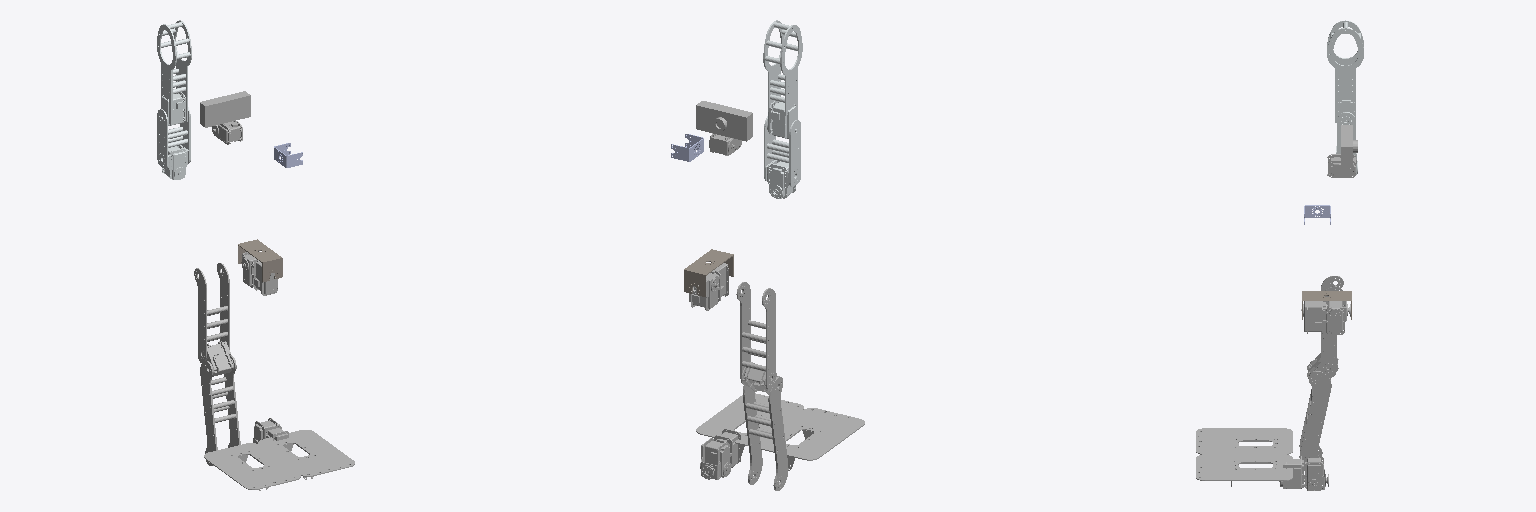
--- Facts derived from the render (not from the file) ---
Views: 3 orthographic renders of the robot side by side, from view 1: azimuth 30°, elevation 25°; view 2: azimuth 150°, elevation 25°; view 3: azimuth 270°, elevation 25°.
Model SAKURA with 21 links and 20 joints (19 continuous, 1 fixed), rooted at base_link, posed all joints at 0.
Links seen in each view (by area): view 1: LFOOT, LLEG2, RFOOT, LARM2, LLEG3, HEAD, LARM1, RLEG0, RLEG1, RLEG4; view 2: LARM2, LLEG2, LFOOT, LLEG3, LARM1, HEAD, RFOOT, RLEG4, RLEG0, RLEG1, RARM0; view 3: RFOOT, LFOOT, LARM2, LLEG3, RLEG1, RLEG4, LLEG2, HEAD, RLEG0.
Boxes of the visible links, x1=… form: LFOOT: x1=204, y1=443, x2=300, y2=490; LLEG2: x1=194, y1=263, x2=233, y2=376; RFOOT: x1=258, y1=430, x2=354, y2=479; LARM2: x1=157, y1=20, x2=191, y2=125; LLEG3: x1=200, y1=355, x2=240, y2=465; HEAD: x1=200, y1=91, x2=250, y2=144; LARM1: x1=157, y1=107, x2=190, y2=179; RLEG0: x1=238, y1=239, x2=282, y2=281; RLEG1: x1=241, y1=251, x2=277, y2=295; RLEG4: x1=253, y1=418, x2=288, y2=443; LARM2: x1=763, y1=20, x2=802, y2=138; LLEG2: x1=736, y1=282, x2=777, y2=394; LFOOT: x1=761, y1=408, x2=864, y2=470; LLEG3: x1=743, y1=376, x2=788, y2=490; LARM1: x1=764, y1=116, x2=800, y2=198; HEAD: x1=696, y1=101, x2=752, y2=155; RFOOT: x1=696, y1=393, x2=803, y2=455; RLEG4: x1=700, y1=429, x2=740, y2=479; RLEG0: x1=684, y1=249, x2=733, y2=296; RLEG1: x1=689, y1=263, x2=728, y2=310; RARM0: x1=671, y1=134, x2=703, y2=161; RFOOT: x1=1196, y1=454, x2=1292, y2=486; LFOOT: x1=1196, y1=428, x2=1292, y2=454; LARM2: x1=1327, y1=20, x2=1363, y2=122; LLEG3: x1=1299, y1=360, x2=1331, y2=467; RLEG1: x1=1301, y1=301, x2=1350, y2=334; RLEG4: x1=1279, y1=456, x2=1328, y2=490; LLEG2: x1=1307, y1=276, x2=1343, y2=382; HEAD: x1=1327, y1=125, x2=1357, y2=177; RLEG0: x1=1302, y1=291, x2=1351, y2=319.
Bounding box of the posed robot: 0.2928 × 0.3597 × 1.01 m (x, y, z).
11 mesh visuals loaded from 20 distinct referenced files (11 binary STL); not drawn: 9 (reference not matched to a file when rendering).

URDF robot description (SAKURA):
<?xml version="1.0"?>
<robot
  name="SAKURA">
  <link name="base_link">
      <origin
        xyz="0 0 0"
        rpy="0 0 0" />
  </link>
  <link
    name="TRUNK">
    <inertial>
      <origin
        xyz="-0.00014294 -0.015994 0.11925"
        rpy="0 0 0" />
      <mass
        value="1.4778" />
      <inertia
        ixx="0.01254"
        ixy="-2.6848E-06"
        ixz="-7.1735E-06"
        iyy="0.016696"
        iyz="0.00077618"
        izz="0.0056788" />
    </inertial>
    <visual>
      <origin
        xyz="0 0 0"
        rpy="0 0 0" />
      <geometry>
        <mesh
          filename="package://sakura_pkg/meshes/TRUNK.STL" />
      </geometry>
      <material
        name="">
        <color
          rgba="0.75294 0.75294 0.75294 1" />
      </material>
    </visual>
    <collision>
      <origin
        xyz="0 0 0"
        rpy="0 0 0" />
      <geometry>
      <mesh
          filename="package://sakura_pkg/meshes/TRUNK.STL" />
      </geometry>
    </collision>
  </link>
  <joint name="GLOBAL" type="fixed">
    <parent link="base_link"/>
    <child link="TRUNK"/>
    <origin xyz="0 0 0" rpy="0 0 0"/>
  </joint>
  <link
    name="HEAD">
    <inertial>
      <origin
        xyz="-0.0022811 0.012999 0.044365"
        rpy="0 0 0" />
      <mass
        value="0.21462" />
      <inertia
        ixx="0.00010122"
        ixy="8.917E-07"
        ixz="4.6738E-06"
        iyy="9.789E-05"
        iyz="-1.8633E-05"
        izz="3.7787E-06" />
    </inertial>
    <visual>
      <origin
        xyz="0 0 0"
        rpy="0 0 0" />
      <geometry>
        <mesh
          filename="package://sakura_pkg/meshes/HEAD.STL" />
      </geometry>
      <material
        name="">
        <color
          rgba="0.75294 0.75294 0.75294 1" />
      </material>
    </visual>
    <collision>
      <origin
        xyz="0 0 0"
        rpy="0 0 0" />
      <geometry>
        <mesh
          filename="package://sakura_pkg/meshes/HEAD.STL" />
      </geometry>
    </collision>
  </link>
  <joint
    name="J_HEAD"
    type="continuous">
    <origin
      xyz="0 0.0105 0.253"
      rpy="0 0 0" />
    <parent
      link="TRUNK" />
    <child
      link="HEAD" />
      <limit effort="30" lower="0" upper="0" velocity="0" />
    <axis
      xyz="0 0 1" />
  </joint>
  <link
    name="LARM0">
    <inertial>
      <origin
        xyz="4.16333634234434E-17 2.77555756156289E-17 0.0103025666414173"
        rpy="0 0 0" />
      <mass
        value="0.00661752260971811" />
      <inertia
        ixx="0"
        ixy="0"
        ixz="0"
        iyy="0"
        iyz="0"
        izz="0" />
    </inertial>
    <visual>
      <origin
        xyz="0 0 0"
        rpy="0 0 0" />
      <geometry>
        <mesh
          filename="package://sakura_pkg/meshes/LARM0.STL" />
      </geometry>
      <material
        name="">
        <color
          rgba="0.792156862745098 0.819607843137255 0.933333333333333 1" />
      </material>
    </visual>
    <collision>
      <origin
        xyz="0 0 0"
        rpy="0 0 0" />
      <geometry>
        <mesh
          filename="package://sakura_pkg/meshes/LARM0.STL" />
      </geometry>
    </collision>
  </link>
  <joint
    name="J_LARM0"
    type="continuous">
    <origin
      xyz="-0.0935 -0.0379999999999999 0.209"
      rpy="1.5707963267949 -5.68512494817791E-16 -1.5707963267949" />
    <parent
      link="TRUNK" />
    <child
      link="LARM0" />
      <limit effort="30" lower="0" upper="0" velocity="0" />
    <axis
      xyz="0 0 1" />
  </joint>
  <link
    name="LARM1">
    <inertial>
      <origin
        xyz="-0.00020391 -0.035817 -0.030725"
        rpy="0 0 0" />
      <mass
        value="0.38689" />
      <inertia
        ixx="0.00031946"
        ixy="-7.0086E-06"
        ixz="-6.3392E-09"
        iyy="8.0452E-05"
        iyz="6.4697E-07"
        izz="0.00038642" />
    </inertial>
    <visual>
      <origin
        xyz="0 0 0"
        rpy="0 0 0" />
      <geometry>
        <mesh
          filename="package://sakura_pkg/meshes/LARM1.STL" />
      </geometry>
      <material
        name="">
        <color
          rgba="0.89804 0.92157 0.92941 1" />
      </material>
    </visual>
    <collision>
      <origin
        xyz="0 0 0"
        rpy="0 0 0" />
      <geometry>
        <mesh
          filename="package://sakura_pkg/meshes/LARM1.STL" />
      </geometry>
    </collision>
  </link>
  <joint
    name="J_LARM1"
    type="continuous">
    <origin
      xyz="-0.0308 0 0.036"
      rpy="3.1416 -1.5708 0" />
    <parent
      link="LARM0" />
    <child
      link="LARM1" />
      <limit effort="30" lower="0" upper="0" velocity="0" />
    <axis
      xyz="0 0 1" />
  </joint>
  <link
    name="LARM2">
    <inertial>
      <origin
        xyz="-0.000946892853796719 -0.0604743903550126 -0.0305493053823289"
        rpy="0 0 0" />
      <mass
        value="0.417770884687889" />
      <inertia
        ixx="0.00130365609096481"
        ixy="-2.20058971275386E-05"
        ixz="-1.13235654810545E-07"
        iyy="7.40162277479168E-05"
        iyz="-4.76741794550913E-06"
        izz="0.00130522583526536" />
    </inertial>
    <visual>
      <origin
        xyz="0 0 0"
        rpy="0 0 0" />
      <geometry>
        <mesh
          filename="package://sakura_pkg/meshes/LARM2.STL" />
      </geometry>
      <material
        name="">
        <color
          rgba="0.898039215686275 0.92156862745098 0.929411764705882 1" />
      </material>
    </visual>
    <collision>
      <origin
        xyz="0 0 0"
        rpy="0 0 0" />
      <geometry>
        <mesh
          filename="package://sakura_pkg/meshes/LARM2.STL" />
      </geometry>
    </collision>
  </link>
  <joint
    name="J_LARM2"
    type="continuous">
    <origin
      xyz="0.0307 -0.1235 -0.0308"
      rpy="0 1.5708 0" />
    <parent
      link="LARM1" />
    <child
      link="LARM2" />
      <limit effort="30" lower="0" upper="0" velocity="0" />
    <axis
      xyz="0 0 -1" />
  </joint>
  <link
    name="RARM0">
    <inertial>
      <origin
        xyz="-4.16333634234434E-17 0 0.0103025666414173"
        rpy="0 0 0" />
      <mass
        value="0.00661752260971814" />
      <inertia
        ixx="0"
        ixy="0"
        ixz="0"
        iyy="0"
        iyz="0"
        izz="0" />
    </inertial>
    <visual>
      <origin
        xyz="0 0 0"
        rpy="0 0 0" />
      <geometry>
        <mesh
          filename="package://sakura_pkg/meshes/RARM0.STL" />
      </geometry>
      <material
        name="">
        <color
          rgba="0.792156862745098 0.819607843137255 0.933333333333333 1" />
      </material>
    </visual>
    <collision>
      <origin
        xyz="0 0 0"
        rpy="0 0 0" />
      <geometry>
        <mesh
          filename="package://sakura_pkg/meshes/RARM0.STL" />
      </geometry>
    </collision>
  </link>
  <joint
    name="J_RARM0"
    type="continuous">
    <origin
      xyz="0.0935 -0.0379999999999998 0.209"
      rpy="-1.5707963267949 -6.11213380380296E-16 -1.5707963267949" />
    <parent
      link="TRUNK" />
    <child
      link="RARM0" />
      <limit effort="30" lower="0" upper="0" velocity="0" />
    <axis
      xyz="0 0 1" />
  </joint>
  <link
    name="RARM1">
    <inertial>
      <origin
        xyz="-0.00020390590904687 -0.0358166170046634 -0.030724518771744"
        rpy="0 0 0" />
      <mass
        value="0.386889741732442" />
      <inertia
        ixx="0.000319462933467777"
        ixy="-7.00859671208941E-06"
        ixz="-6.33921748509193E-09"
        iyy="8.04522623501488E-05"
        iyz="6.46973244600186E-07"
        izz="0.000386423060557298" />
    </inertial>
    <visual>
      <origin
        xyz="0 0 0"
        rpy="0 0 0" />
      <geometry>
        <mesh
          filename="package://sakura_pkg/meshes/RARM1.STL" />
      </geometry>
      <material
        name="">
        <color
          rgba="0.898039215686275 0.92156862745098 0.929411764705882 1" />
      </material>
    </visual>
    <collision>
      <origin
        xyz="0 0 0"
        rpy="0 0 0" />
      <geometry>
        <mesh
          filename="package://sakura_pkg/meshes/RARM1.STL" />
      </geometry>
    </collision>
  </link>
  <joint
    name="J_RARM1"
    type="continuous">
    <origin
      xyz="-0.0308 0 0.036"
      rpy="3.14159265358979 1.5707963267949 0" />
    <parent
      link="RARM0" />
    <child
      link="RARM1" />
      <limit effort="30" lower="0" upper="0" velocity="0" />
    <axis
      xyz="0 0 1" />
  </joint>
  <link
    name="RARM2">
    <inertial>
      <origin
        xyz="-0.000946892853796802 -0.0604743903550127 -0.030549305382329"
        rpy="0 0 0" />
      <mass
        value="0.417770884687889" />
      <inertia
        ixx="0.00130365609096481"
        ixy="-2.20058971275386E-05"
        ixz="-1.13235654810692E-07"
        iyy="7.40162277479168E-05"
        iyz="-4.76741794550967E-06"
        izz="0.00130522583526536" />
    </inertial>
    <visual>
      <origin
        xyz="0 0 0"
        rpy="0 0 0" />
      <geometry>
        <mesh
          filename="package://sakura_pkg/meshes/RARM2.STL" />
      </geometry>
      <material
        name="">
        <color
          rgba="0.898039215686275 0.92156862745098 0.929411764705882 1" />
      </material>
    </visual>
    <collision>
      <origin
        xyz="0 0 0"
        rpy="0 0 0" />
      <geometry>
        <mesh
          filename="package://sakura_pkg/meshes/RARM2.STL" />
      </geometry>
    </collision>
  </link>
  <joint
    name="J_RARM2"
    type="continuous">
    <origin
      xyz="0.0307 -0.1235 -0.0308"
      rpy="0 1.5708 0" />
    <parent
      link="RARM1" />
    <child
      link="RARM2" />
      <limit effort="30" lower="0" upper="0" velocity="0" />
    <axis
      xyz="0 0 -1" />
  </joint>
  <link
    name="LLEG0">
    <inertial>
      <origin
        xyz="1.38777878078145E-17 1.38777878078145E-17 0.012339611662812"
        rpy="0 0 0" />
      <mass
        value="0.137487098095279" />
      <inertia
        ixx="0"
        ixy="0"
        ixz="0"
        iyy="0"
        iyz="0"
        izz="0" />
    </inertial>
    <visual>
      <origin
        xyz="0 0 0"
        rpy="0 0 0" />
      <geometry>
        <mesh
          filename="package://sakura_pkg/meshes/LLEG0.STL" />
      </geometry>
      <material
        name="">
        <color
          rgba="0.650980392156863 0.619607843137255 0.588235294117647 1" />
      </material>
    </visual>
    <collision>
      <origin
        xyz="0 0 0"
        rpy="0 0 0" />
      <geometry>
        <mesh
          filename="package://sakura_pkg/meshes/LLEG0.STL" />
      </geometry>
    </collision>
  </link>
  <joint
    name="J_LLEG0"
    type="continuous">
    <origin
      xyz="-0.055 -0.018 -0.005"
      rpy="-3.14159265358979 1.21430643318376E-16 -1.5707963267949" />
    <parent
      link="TRUNK" />
    <child
      link="LLEG0" />
      <limit effort="30" lower="0" upper="0" velocity="0" />
    <axis
      xyz="0 0 1" />
  </joint>
  <link
    name="LLEG1">
    <inertial>
      <origin
        xyz="-4.90216563097182E-05 -0.014933566350856 -0.0542307430726147"
        rpy="0 0 0" />
      <mass
        value="0.484317524341268" />
      <inertia
        ixx="0.000258532465487085"
        ixy="-1.08430216395218E-08"
        ixz="-4.93107012410794E-07"
        iyy="0.000256538006237082"
        iyz="8.86337248194801E-06"
        izz="4.00980160512074E-06" />
    </inertial>
    <visual>
      <origin
        xyz="0 0 0"
        rpy="0 0 0" />
      <geometry>
        <mesh
          filename="package://sakura_pkg/meshes/LLEG1.STL" />
      </geometry>
      <material
        name="">
        <color
          rgba="0.752941176470588 0.752941176470588 0.752941176470588 1" />
      </material>
    </visual>
    <collision>
      <origin
        xyz="0 0 0"
        rpy="0 0 0" />
      <geometry>
        <mesh
          filename="package://sakura_pkg/meshes/LLEG1.STL" />
      </geometry>
    </collision>
  </link>
  <joint
    name="J_LLEG1"
    type="continuous">
    <origin
      xyz="0.056 0 0.036"
      rpy="-1.5708 -1.2234E-16 -1.5708" />
    <parent
      link="LLEG0" />
    <child
      link="LLEG1" />
      <limit effort="30" lower="0" upper="0" velocity="0" />
    <axis
      xyz="0 0 1" />
  </joint>
  <link
    name="LLEG2">
    <inertial>
      <origin
        xyz="0.089614 -0.12167 -0.028574"
        rpy="0 0 0" />
      <mass
        value="0.42958" />
      <inertia
        ixx="0.00073944"
        ixy="0.0004693"
        ixz="-4.1766E-06"
        iyy="0.00045782"
        iyz="4.4988E-06"
        izz="0.0010079" />
    </inertial>
    <visual>
      <origin
        xyz="0 0 0"
        rpy="0 0 0" />
      <geometry>
        <mesh
          filename="package://sakura_pkg/meshes/LLEG2.STL" />
      </geometry>
      <material
        name="">
        <color
          rgba="0.75294 0.75294 0.75294 1" />
      </material>
    </visual>
    <collision>
      <origin
        xyz="0 0 0"
        rpy="0 0 0" />
      <geometry>
        <mesh
          filename="package://sakura_pkg/meshes/LLEG2.STL" />
      </geometry>
    </collision>
  </link>
  <joint
    name="J_LLEG2"
    type="continuous">
    <origin
      xyz="0.0289999999999999 0 -0.0750000000000234"
      rpy="-1.5707963267949 0.78539816339745 -1.5707963267949" />
    <parent
      link="LLEG1" />
    <child
      link="LLEG2" />
      <limit effort="30" lower="0" upper="0" velocity="0" />
    <axis
      xyz="0 0 -1" />
  </joint>
  <link
    name="LLEG3">
    <inertial>
      <origin
        xyz="0.093861 0.021121 -0.026686"
        rpy="0 0 0" />
      <mass
        value="0.25346" />
      <inertia
        ixx="0.00015789"
        ixy="4.3351E-06"
        ixz="2.3814E-06"
        iyy="0.00021525"
        iyz="4.4961E-06"
        izz="7.9094E-05" />
    </inertial>
    <visual>
      <origin
        xyz="0 0 0"
        rpy="0 0 0" />
      <geometry>
        <mesh
          filename="package://sakura_pkg/meshes/LLEG3.STL" />
      </geometry>
      <material
        name="">
        <color
          rgba="0.75294 0.75294 0.75294 1" />
      </material>
    </visual>
    <collision>
      <origin
        xyz="0 0 0"
        rpy="0 0 0" />
      <geometry>
        <mesh
          filename="package://sakura_pkg/meshes/LLEG3.STL" />
      </geometry>
    </collision>
  </link>
  <joint
    name="J_LLEG3"
    type="continuous">
    <origin
      xyz="0.112429978208667 -0.169643181644254 0.00160000000000024"
      rpy="-0.0320557226319531 0.0283578707512148 -1.01721646459287" />
    <parent
      link="LLEG2" />
    <child
      link="LLEG3" />
      <limit effort="30" lower="0" upper="0" velocity="0" />
    <axis
      xyz="0.0283540701513945 0.0320373469653184 -0.999084408398647" />
  </joint>
  <link
    name="LLEG4">
    <inertial>
      <origin
        xyz="0.020769 -0.014934 -0.030951"
        rpy="0 0 0" />
      <mass
        value="0.48432" />
      <inertia
        ixx="4.0098E-06"
        ixy="8.8634E-06"
        ixz="4.9311E-07"
        iyy="0.00025654"
        iyz="1.0843E-08"
        izz="0.00025853" />
    </inertial>
    <visual>
      <origin
        xyz="0 0 0"
        rpy="0 0 0" />
      <geometry>
        <mesh
          filename="package://sakura_pkg/meshes/LLEG4.STL" />
      </geometry>
      <material
        name="">
        <color
          rgba="0.75294 0.75294 0.75294 1" />
      </material>
    </visual>
    <collision>
      <origin
        xyz="0 0 0"
        rpy="0 0 0" />
      <geometry>
        <mesh
          filename="package://sakura_pkg/meshes/LLEG4.STL" />
      </geometry>
    </collision>
  </link>
  <joint
    name="J_LLEG4"
    type="continuous">
    <origin
      xyz="0.197586247823477 0.0406824222202888 0.00791297626240615"
      rpy="0.0349626635830543 0.024684472221529 -1.33900102768066" />
    <parent
      link="LLEG3" />
    <child
      link="LLEG4" />
      <limit effort="30" lower="0" upper="0" velocity="0" />
    <axis
      xyz="0 0 1" />
  </joint>
  <link
    name="LFOOT">
    <inertial>
      <origin
        xyz="-0.00984398078216436 0.0330814461632451 0.0742424926896279"
        rpy="0 0 0" />
      <mass
        value="0.474832547151361" />
      <inertia
        ixx="5.51319710395956E-05"
        ixy="8.95545085142723E-06"
        ixz="2.1883900378474E-05"
        iyy="5.73648543375661E-05"
        iyz="-1.93251189181959E-05"
        izz="1.80495475741546E-05" />
    </inertial>
    <visual>
      <origin
        xyz="0 0 0"
        rpy="0 0 0" />
      <geometry>
        <mesh
          filename="package://sakura_pkg/meshes/LFOOT.STL" />
      </geometry>
      <material
        name="">
        <color
          rgba="0.752941176470588 0.752941176470588 0.752941176470588 1" />
      </material>
    </visual>
    <collision>
      <origin
        xyz="0 0 0"
        rpy="0 0 0" />
      <geometry>
        <mesh
          filename="package://sakura_pkg/meshes/LFOOT.STL" />
      </geometry>
    </collision>
  </link>
  <joint
    name="J_LFOOT"
    type="continuous">
    <origin
      xyz="0.072 0 -0.031"
      rpy="3.14159263868863 -1.5707963267949 0" />
    <parent
      link="LLEG4" />
    <child
      link="LFOOT" />
      <limit effort="30" lower="0" upper="0" velocity="0" />
    <axis
      xyz="0 0 1" />
  </joint>
  <link
    name="RLEG0">
    <inertial>
      <origin
        xyz="1.38777878078145E-17 0 0.012339611662812"
        rpy="0 0 0" />
      <mass
        value="0.137487098095279" />
      <inertia
        ixx="0"
        ixy="0"
        ixz="0"
        iyy="0"
        iyz="0"
        izz="0" />
    </inertial>
    <visual>
      <origin
        xyz="0 0 0"
        rpy="0 0 0" />
      <geometry>
        <mesh
          filename="package://sakura_pkg/meshes/RLEG0.STL" />
      </geometry>
      <material
        name="">
        <color
          rgba="0.650980392156863 0.619607843137255 0.588235294117647 1" />
      </material>
    </visual>
    <collision>
      <origin
        xyz="0 0 0"
        rpy="0 0 0" />
      <geometry>
        <mesh
          filename="package://sakura_pkg/meshes/RLEG0.STL" />
      </geometry>
    </collision>
  </link>
  <joint
    name="J_RLEG0"
    type="continuous">
    <origin
      xyz="0.055 -0.018 -0.005"
      rpy="-3.14159265358979 1.21430643318376E-16 -1.5707963267949" />
    <parent
      link="TRUNK" />
    <child
      link="RLEG0" />
      <limit effort="30" lower="0" upper="0" velocity="0" />
    <axis
      xyz="0 0 1" />
  </joint>
  <link
    name="RLEG1">
    <inertial>
      <origin
        xyz="-4.90216577924418E-05 -0.0149335663508682 -0.0542307430725066"
        rpy="0 0 0" />
      <mass
        value="0.484317524383384" />
      <inertia
        ixx="0.000258532465484251"
        ixy="-1.08430220390423E-08"
        ixz="-4.93107011446901E-07"
        iyy="0.000256538006249205"
        iyz="8.86337248130363E-06"
        izz="4.00980161458822E-06" />
    </inertial>
    <visual>
      <origin
        xyz="0 0 0"
        rpy="0 0 0" />
      <geometry>
        <mesh
          filename="package://sakura_pkg/meshes/RLEG1.STL" />
      </geometry>
      <material
        name="">
        <color
          rgba="0.752941176470588 0.752941176470588 0.752941176470588 1" />
      </material>
    </visual>
    <collision>
      <origin
        xyz="0 0 0"
        rpy="0 0 0" />
      <geometry>
        <mesh
          filename="package://sakura_pkg/meshes/RLEG1.STL" />
      </geometry>
    </collision>
  </link>
  <joint
    name="J_RLEG1"
    type="continuous">
    <origin
      xyz="0.056 0 0.036"
      rpy="-1.5707963267949 2.66239395980971E-16 -1.5707963267949" />
    <parent
      link="RLEG0" />
    <child
      link="RLEG1" />
      <limit effort="30" lower="0" upper="0" velocity="0" />
    <axis
      xyz="0 0 1" />
  </joint>
  <link
    name="RLEG2">
    <inertial>
      <origin
        xyz="0.089613503390275 -0.121669815792638 -0.0285739776731877"
        rpy="0 0 0" />
      <mass
        value="0.429581814867276" />
      <inertia
        ixx="0.000739443276879589"
        ixy="0.00046929859222448"
        ixz="-4.17657698668804E-06"
        iyy="0.00045781924000273"
        iyz="4.49877955818356E-06"
        izz="0.00100793675092908" />
    </inertial>
    <visual>
      <origin
        xyz="0 0 0"
        rpy="0 0 0" />
      <geometry>
        <mesh
          filename="package://sakura_pkg/meshes/RLEG2.STL" />
      </geometry>
      <material
        name="">
        <color
          rgba="0.752941176470588 0.752941176470588 0.752941176470588 1" />
      </material>
    </visual>
    <collision>
      <origin
        xyz="0 0 0"
        rpy="0 0 0" />
      <geometry>
        <mesh
          filename="package://sakura_pkg/meshes/RLEG2.STL" />
      </geometry>
    </collision>
  </link>
  <joint
    name="J_RLEG2"
    type="continuous">
    <origin
      xyz="0.029 0 -0.075"
      rpy="-1.5708 0.7854 -1.5708" />
    <parent
      link="RLEG1" />
    <child
      link="RLEG2" />
      <limit effort="30" lower="0" upper="0" velocity="0" />
    <axis
      xyz="0 0 -1" />
  </joint>
  <link
    name="RLEG3">
    <inertial>
      <origin
        xyz="0.0938607247050211 0.0211214692414469 -0.0266864244548487"
        rpy="0 0 0" />
      <mass
        value="0.253457988874213" />
      <inertia
        ixx="0.000157893827081503"
        ixy="4.33507693026066E-06"
        ixz="2.38137513758881E-06"
        iyy="0.000215254509125973"
        iyz="4.4960509893532E-06"
        izz="7.90936329999811E-05" />
    </inertial>
    <visual>
      <origin
        xyz="0 0 0"
        rpy="0 0 0" />
      <geometry>
        <mesh
          filename="package://sakura_pkg/meshes/RLEG3.STL" />
      </geometry>
      <material
        name="">
        <color
          rgba="0.752941176470588 0.752941176470588 0.752941176470588 1" />
      </material>
    </visual>
    <collision>
      <origin
        xyz="0 0 0"
        rpy="0 0 0" />
      <geometry>
        <mesh
          filename="package://sakura_pkg/meshes/RLEG3.STL" />
      </geometry>
    </collision>
  </link>
  <joint
    name="J_RLEG3"
    type="continuous">
    <origin
      xyz="0.112429978208668 -0.169643181644253 0.00160000000000014"
      rpy="-0.0320557226319534 0.0283578707512146 -1.01721646459286" />
    <parent
      link="RLEG2" />
    <child
      link="RLEG3" />
      <limit effort="30" lower="0" upper="0" velocity="0" />
    <axis
      xyz="0.0283540701513948 0.0320373469653193 -0.999084408398647" />
  </joint>
  <link
    name="RLEG4">
    <inertial>
      <origin
        xyz="0.0207692569273853 -0.0149335663508561 -0.0309509783436903"
        rpy="0 0 0" />
      <mass
        value="0.484317524341268" />
      <inertia
        ixx="4.00980160512073E-06"
        ixy="8.86337248194766E-06"
        ixz="4.93107012410861E-07"
        iyy="0.000256538006237082"
        iyz="1.0843021639522E-08"
        izz="0.000258532465487085" />
    </inertial>
    <visual>
      <origin
        xyz="0 0 0"
        rpy="0 0 0" />
      <geometry>
        <mesh
          filename="package://sakura_pkg/meshes/RLEG4.STL" />
      </geometry>
      <material
        name="">
        <color
          rgba="0.752941176470588 0.752941176470588 0.752941176470588 1" />
      </material>
    </visual>
    <collision>
      <origin
        xyz="0 0 0"
        rpy="0 0 0" />
      <geometry>
        <mesh
          filename="package://sakura_pkg/meshes/RLEG4.STL" />
      </geometry>
    </collision>
  </link>
  <joint
    name="J_RLEG4"
    type="continuous">
    <origin
      xyz="0.197586247823477 0.0406824222202871 0.0079129762624061"
      rpy="0.0349626635830545 0.0246844722215303 -1.33900102768068" />
    <parent
      link="RLEG3" />
    <child
      link="RLEG4" />
      <limit effort="30" lower="0" upper="0" velocity="0" />
    <axis
      xyz="0 0 1" />
  </joint>
  <link
    name="RFOOT">
    <inertial>
      <origin
        xyz="0.00984398078216447 0.033081446163245 0.0742424926896279"
        rpy="0 0 0" />
      <mass
        value="0.474832547151361" />
      <inertia
        ixx="5.51319710395939E-05"
        ixy="-8.955450851427E-06"
        ixz="-2.18839003784739E-05"
        iyy="5.73648543375652E-05"
        iyz="-1.9325118918195E-05"
        izz="1.80495475741542E-05" />
    </inertial>
    <visual>
      <origin
        xyz="0 0 0"
        rpy="0 0 0" />
      <geometry>
        <mesh
          filename="package://sakura_pkg/meshes/RFOOT.STL" />
      </geometry>
      <material
        name="">
        <color
          rgba="0.752941176470588 0.752941176470588 0.752941176470588 1" />
      </material>
    </visual>
    <collision>
      <origin
        xyz="0 0 0"
        rpy="0 0 0" />
      <geometry>
        <mesh
          filename="package://sakura_pkg/meshes/RFOOT.STL" />
      </geometry>
    </collision>
  </link>
  <joint
    name="J_RFOOT"
    type="continuous">
    <origin
      xyz="0.072 0 -0.031"
      rpy="3.14159263868863 -1.5707963267949 0" />
    <parent
      link="RLEG4" />
    <child
      link="RFOOT" />
      <limit effort="30" lower="0" upper="0" velocity="0" />
    <axis
      xyz="0 0 1" />
  </joint> <!-- -->
</robot>
